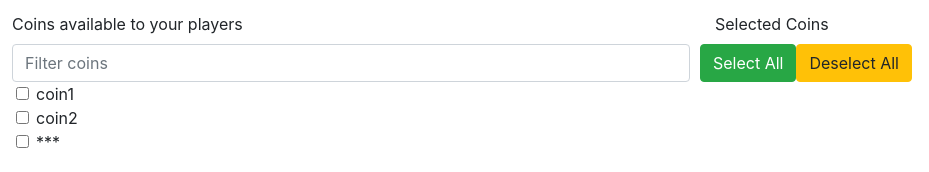
Test case: Filter coins by substring
Type "oi" into the field with placeholder "Filter coins".
click(351, 63); type("oi")  # box [12,44,690,82]
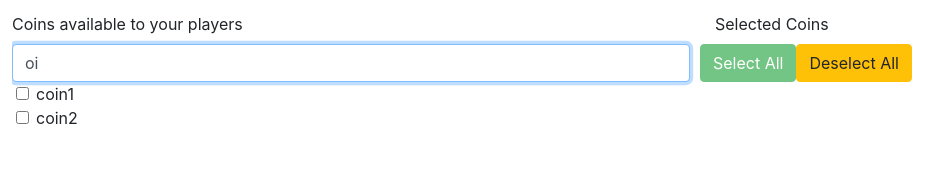
Expected: the text "coin1" is shown, [36,82,74,106]
Now the text "***" is gone
